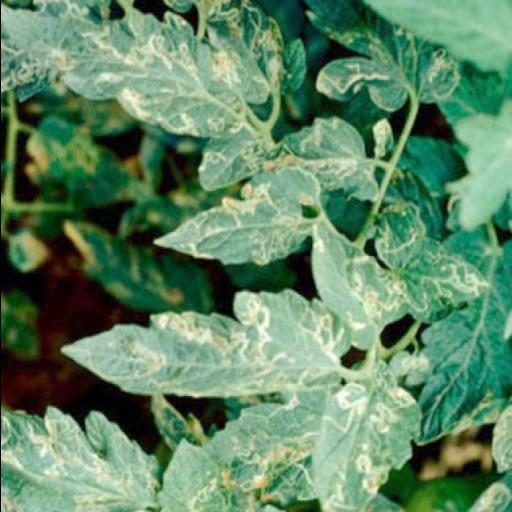Leaf Miner: (1, 0, 251, 138), (59, 289, 352, 400), (0, 401, 163, 512), (150, 166, 322, 266), (310, 381, 423, 512), (310, 212, 410, 351)
